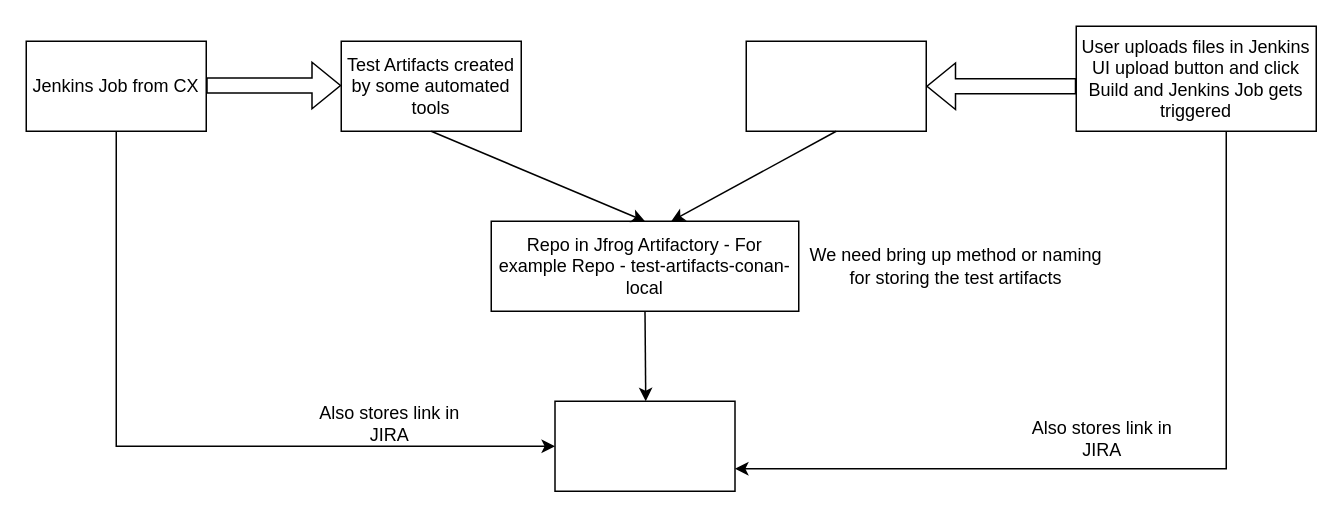
Image size: 1343x518. Some labels were removed from this diagram. Here are the shapes that lost their labels. From the top down, the box of each, then its label:
(745, 40, 926, 131): Test Artifacts created manually
(554, 400, 735, 491): Link will be stored in ALM / JIRA
